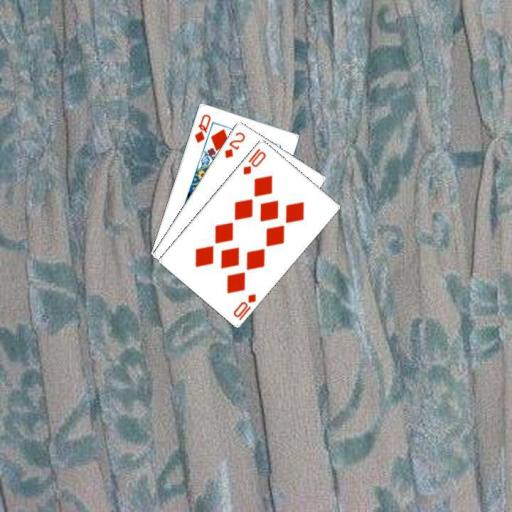10D: (230, 290, 257, 322), (240, 145, 267, 176)
2D: (221, 128, 247, 159)
QD: (191, 111, 212, 144)
